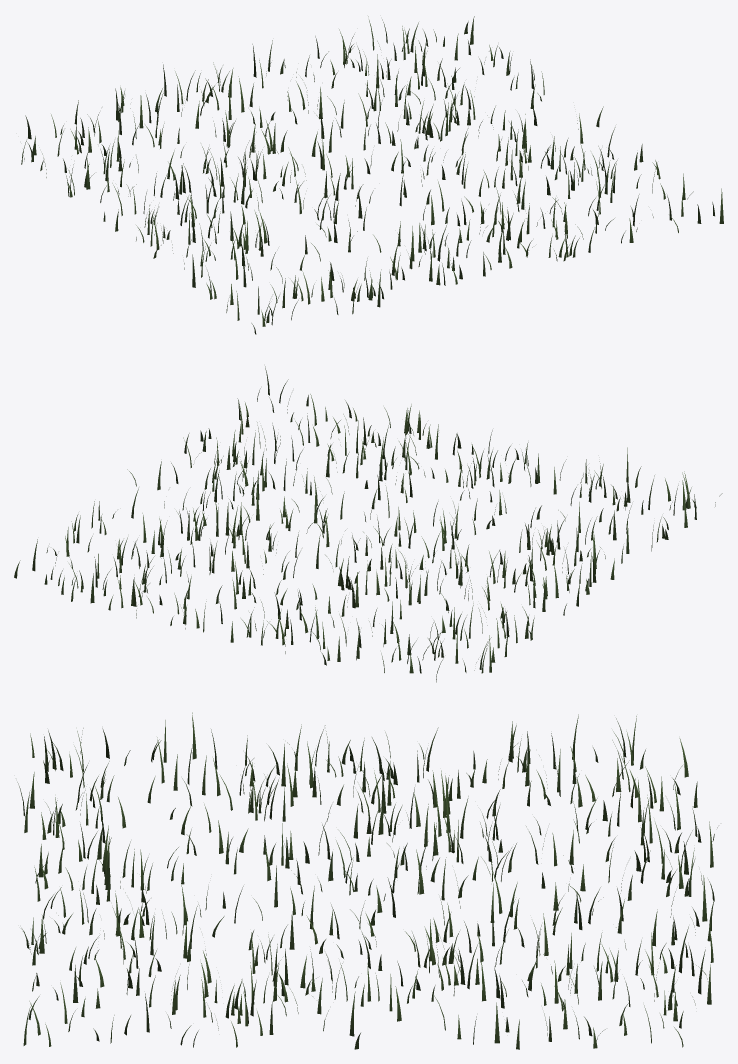
Rendered from meadow_patch.glb.
3 views of the same model, one above another, from view 1: azimuth 30°, elevation 25°; view 2: azimuth 150°, elevation 25°; view 3: azimuth 270°, elevation 25° (orthographic). The views are drawn at different scales.
Parts seen in each view (by area): view 1: meadow_patch; view 2: meadow_patch; view 3: meadow_patch.
Boxes of the visible parts, box(x1,y1,x2,y2) form: meadow_patch: box(21, 16, 723, 334); meadow_patch: box(14, 366, 722, 682); meadow_patch: box(17, 712, 717, 1049).
Bounding box in the file's own units: 3.49 × 0.2498 × 3.48.
